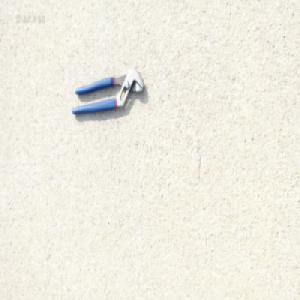Pliers: (70, 67, 144, 117)
